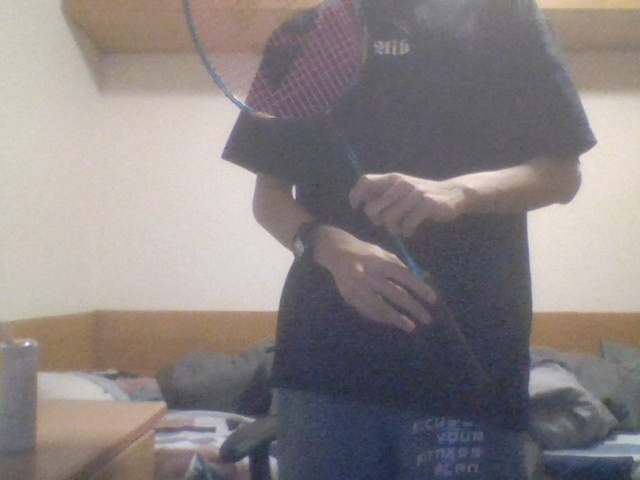human: (221, 2, 600, 480)
racket: (182, 1, 492, 399)
